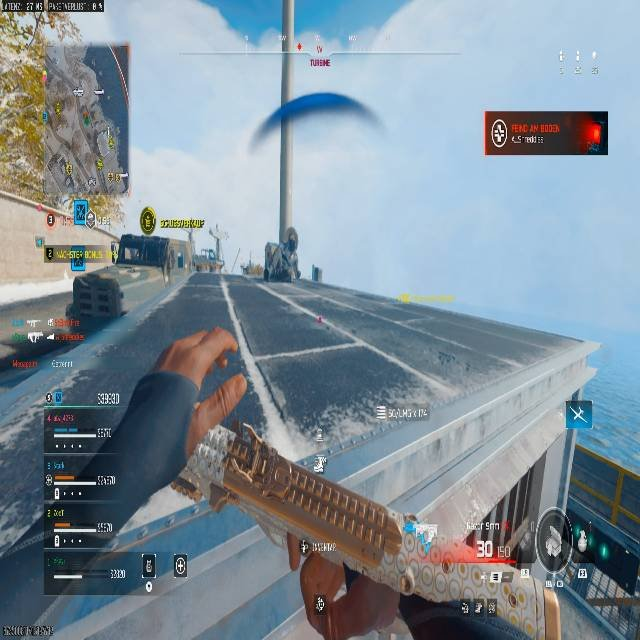player: (279, 225, 300, 281)
